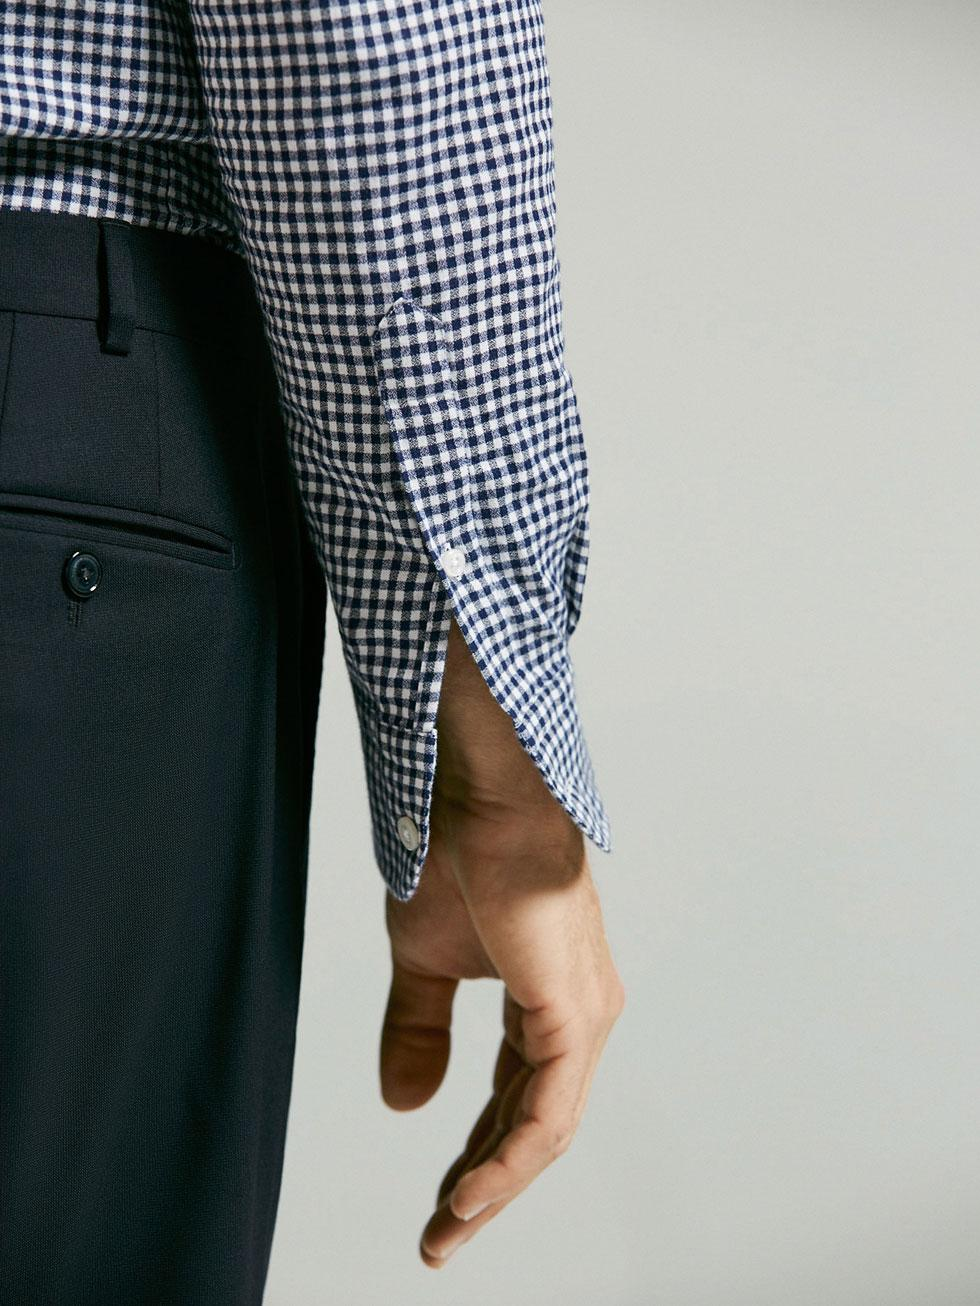teeshirt: (1, 1, 635, 889)
